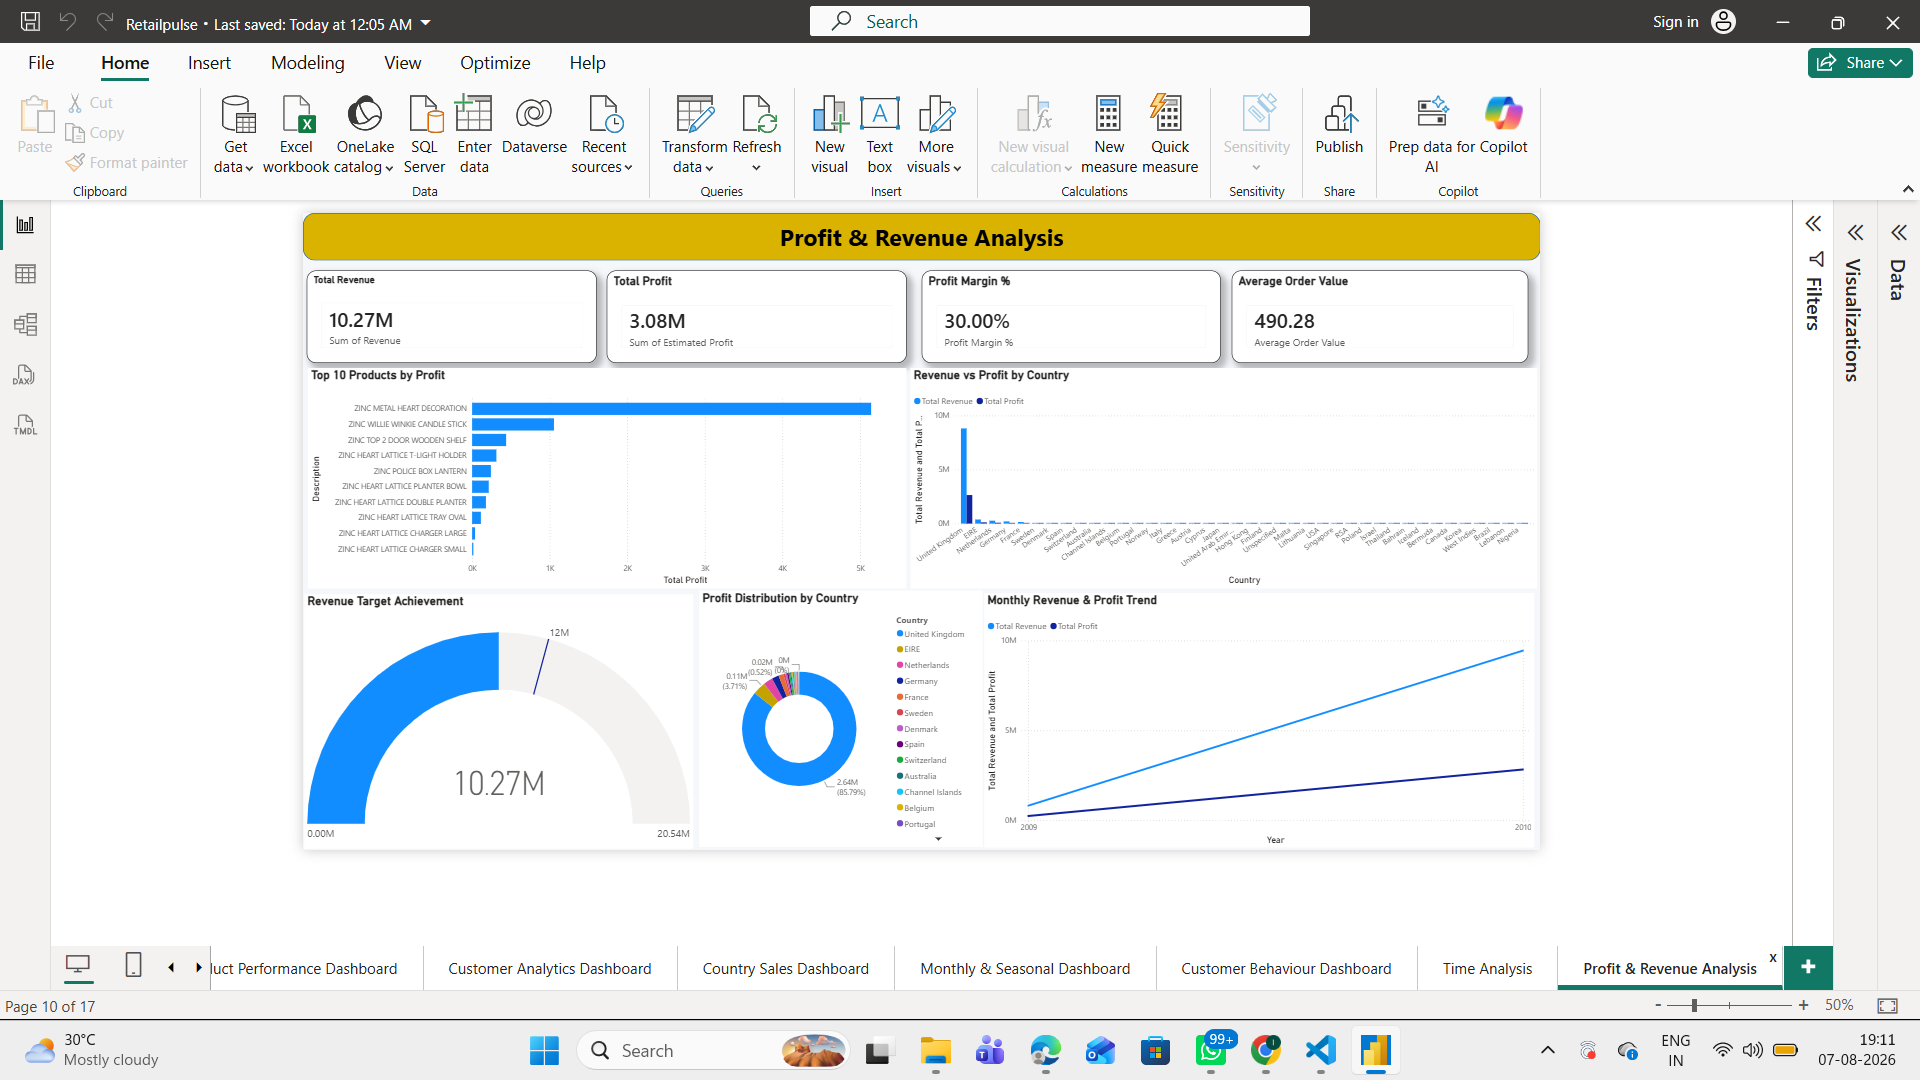

The dashboard page shown, as its layout file describes it:
{"tool":"powerbi","page":{"name":"Profit & Revenue Analysis","canvas":[1980,1020],"ordinal":9},"visuals":[{"type":"shape","box":[0,0,1980,76],"z":0},{"type":"cardVisual","title":"Total Revenue","fields":{"Data":["Sum(cleaned_online_retail.Revenue)"]},"box":[6,92,464,148],"z":1000},{"type":"cardVisual","title":"Total Profit","fields":{"Data":["Sum(cleaned_online_retail.Estimated Profit)"]},"box":[486,92,480,148],"z":2000},{"type":"cardVisual","title":"Profit Margin %","fields":{"Data":["cleaned_online_retail.Profit Margin %"]},"box":[990,92,478,148],"z":3000},{"type":"cardVisual","title":"Average Order Value","fields":{"Data":["cleaned_online_retail.Average Order Value"]},"box":[1486,92,474,148],"z":4000},{"type":"lineChart","title":"Monthly Revenue & Profit Trend","fields":{"Category":["cleaned_online_retail.Month.Variation.Date Hierarchy.Year","cleaned_online_retail.Month.Variation.Date Hierarchy.Quarter","cleaned_online_retail.Month.Variation.Date Hierarchy.Month","cleaned_online_retail.Month.Variation.Date Hierarchy.Day"],"Y":["cleaned_online_retail.Total Revenue","cleaned_online_retail.Total Profit"]},"box":[1090,607.5,880,407.5],"z":5000},{"type":"clusteredBarChart","title":"Top 10 Products by Profit","fields":{"Category":["cleaned_online_retail.Description"],"Y":["cleaned_online_retail.Total Profit"]},"box":[7.5,247.5,957.5,352.5],"z":6000},{"type":"gauge","title":"Revenue Target Achievement","fields":{"TargetValue":["cleaned_online_retail.Revenue Target"],"Y":["cleaned_online_retail.Total Revenue"]},"box":[2.5,610,622.5,407.5],"z":7000},{"type":"clusteredColumnChart","title":"Revenue vs Profit by Country","fields":{"Category":["cleaned_online_retail.Country"],"Y":["cleaned_online_retail.Total Revenue","cleaned_online_retail.Total Profit"]},"box":[972.5,247.5,1002.5,352.5],"z":8000},{"type":"donutChart","title":"Profit Distribution by Country","fields":{"Category":["cleaned_online_retail.Country"],"Y":["cleaned_online_retail.Total Profit"]},"box":[633.3,603.3,453.3,410],"z":9000}]}

Visuals, with their boxes on the page's 1980x1020 design canvas (x1, y1, x2, y2). These are canvas units, not pixel positions in the 1920x1080 screenshot, which may show the page scaled, cropped or inside an application window:
shape: l=0, t=0, r=1980, b=76
"Total Revenue" cardVisual: l=6, t=92, r=470, b=240
"Total Profit" cardVisual: l=486, t=92, r=966, b=240
"Profit Margin %" cardVisual: l=990, t=92, r=1468, b=240
"Average Order Value" cardVisual: l=1486, t=92, r=1960, b=240
"Monthly Revenue & Profit Trend" lineChart: l=1090, t=608, r=1970, b=1015
"Top 10 Products by Profit" clusteredBarChart: l=8, t=248, r=965, b=600
"Revenue Target Achievement" gauge: l=2, t=610, r=625, b=1018
"Revenue vs Profit by Country" clusteredColumnChart: l=972, t=248, r=1975, b=600
"Profit Distribution by Country" donutChart: l=633, t=603, r=1087, b=1013
